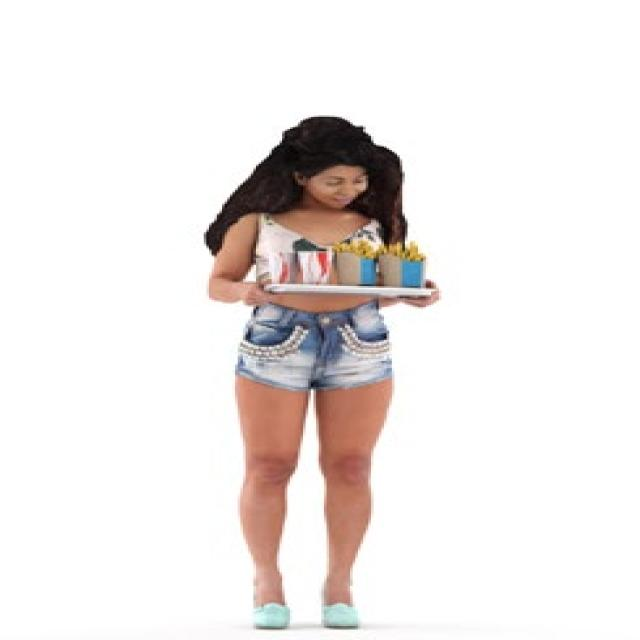standing: (200, 114, 443, 634)
